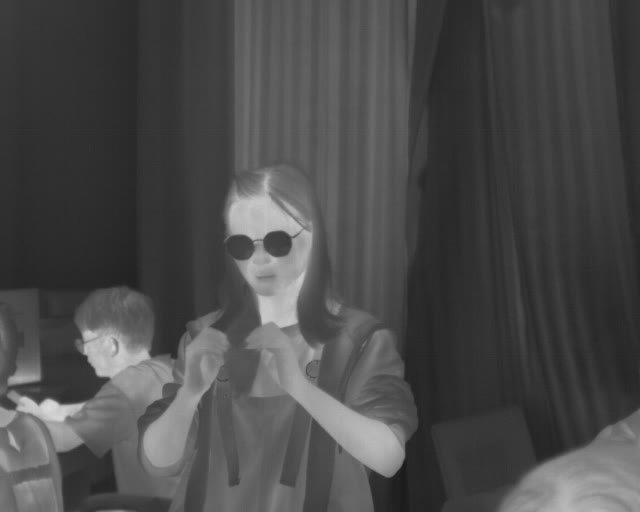face: (222, 163, 318, 297)
